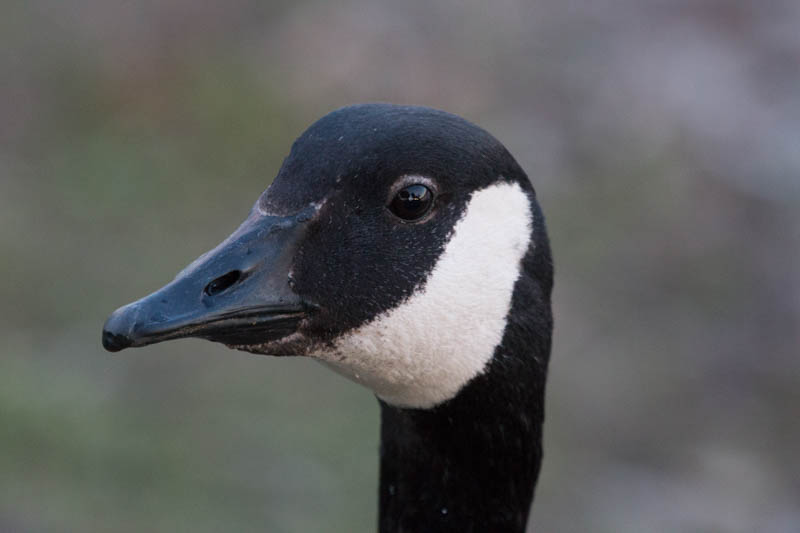goose-head: (101, 103, 554, 409)
